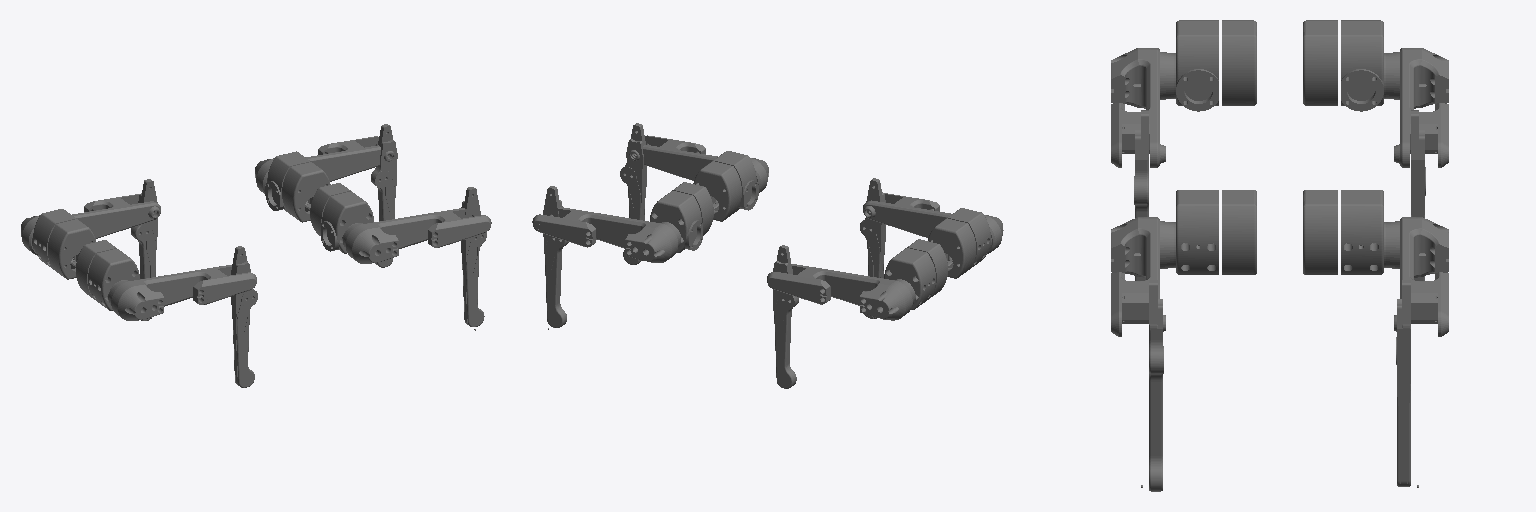
URDF robot description (4leg_robot):
<?xml version="1.0" ?>
<!-- =================================================================================== -->
<!-- |    This document was autogenerated by xacro from 4leg_robot.xacro               | -->
<!-- |    EDITING THIS FILE BY HAND IS NOT RECOMMENDED                                 | -->
<!-- =================================================================================== -->
<robot name="4leg_robot" xmlns:xacro="http://ros.org/wiki/xacro">
  <material name="gray">
    <color rgba="0.5 0.5 0.5 2.5"/>
  </material>
  <link name="base_link"/>
  <joint name="robot_base" type="fixed">
    <parent link="base_link"/>
    <child link="robot_body"/>
    <origin rpy="0.0 0.0 0.0" xyz="0.0 0.0 0.0101"/>
  </joint>
  <link name="robot_body">
    <visual>
      <geometry>
        <mesh filename="package://4leg_robot/stl/Servo_4leg_body.stl"/>
      </geometry>
      <material name="gray"/>
    </visual>
  </link>
  <joint name="right_leg_front_joint" type="continuous">
    <origin rpy="0 0 0" xyz="-0.141 -0.0572 0.0"/>
    <parent link="base_link"/>
    <child link="right_leg_front_servohead5"/>
    <axis xyz="1 0 0"/>
  </joint>
  <link name="right_leg_front_servohead5">
    <visual>
      <origin rpy="0 0 0" xyz="0 0 0"/>
      <geometry>
        <mesh filename="package://4leg_robot/stl/servohead_parts5.stl"/>
      </geometry>
      <material name="gray"/>
    </visual>
  </link>
  <joint name="right_leg_front_servohead_joint" type="fixed">
    <parent link="right_leg_front_servohead5"/>
    <child link="right_leg_front_servohead6"/>
    <origin xyz="0.0 0.015 0.0"/>
  </joint>
  <link name="right_leg_front_servohead6">
    <visual>
      <origin rpy="0 0 0" xyz="0 0 0"/>
      <geometry>
        <mesh filename="package://4leg_robot/stl/servohead_parts6.stl"/>
      </geometry>
      <material name="gray"/>
    </visual>
  </link>
  <joint name="right_leg_front_leg_joint1" type="continuous">
    <parent link="right_leg_front_servohead5"/>
    <child link="right_leg_front_leg1"/>
    <origin rpy="0.0 0.0 0.0" xyz="0.0 -0.016 0.0"/>
    <axis xyz="0 1 0"/>
  </joint>
  <link name="right_leg_front_leg1">
    <visual>
      <geometry>
        <mesh filename="package://4leg_robot/stl/leg_parts1.stl"/>
      </geometry>
      <material name="gray"/>
    </visual>
  </link>
  <joint name="right_leg_front_leg_joint2" type="continuous">
    <parent link="right_leg_front_leg1"/>
    <child link="right_leg_front_leg2"/>
    <origin rpy="0.0 1.57079632679 0.0" xyz="0.13 -0.019 0.0"/>
    <axis xyz="0 1 0"/>
  </joint>
  <link name="right_leg_front_leg2">
    <visual>
      <geometry>
        <mesh filename="package://4leg_robot/stl/leg_parts2.stl"/>
      </geometry>
      <material name="gray"/>
    </visual>
  </link>
  <joint name="right_leg_front_leg_position" type="fixed">
    <parent link="right_leg_front_leg2"/>
    <child link="right_leg_front_toe"/>
    <origin rpy="0.0 0.0 0.0" xyz="0.127 -0.005 0.0"/>
  </joint>
  <link name="right_leg_front_toe">
    <visual>
      <geometry>
        <sphere radius="0.001"/>
      </geometry>
      <material name="gray"/>
    </visual>
  </link>
  <joint name="left_leg_front_joint" type="continuous">
    <origin rpy="0 0 0" xyz="0.141 -0.0572 0.0"/>
    <parent link="base_link"/>
    <child link="left_leg_front_servohead7"/>
    <axis xyz="1 0 0"/>
  </joint>
  <link name="left_leg_front_servohead7">
    <visual>
      <origin rpy="0 0 0" xyz="0 0 0"/>
      <geometry>
        <mesh filename="package://4leg_robot/stl/servohead_parts7.stl"/>
      </geometry>
      <material name="gray"/>
    </visual>
  </link>
  <joint name="left_leg_front_servohead_joint" type="fixed">
    <parent link="left_leg_front_servohead7"/>
    <child link="left_leg_front_servohead6"/>
    <origin xyz="0.0 0.015 0.0"/>
  </joint>
  <link name="left_leg_front_servohead6">
    <visual>
      <origin rpy="0 0 0" xyz="0 0 0"/>
      <geometry>
        <mesh filename="package://4leg_robot/stl/servohead_parts6.stl"/>
      </geometry>
      <material name="gray"/>
    </visual>
  </link>
  <joint name="left_leg_front_leg_joint1" type="continuous">
    <parent link="left_leg_front_servohead7"/>
    <child link="left_leg_front_leg1"/>
    <origin rpy="0.0 0.0 0.0" xyz="0.0 -0.016 0.0"/>
    <axis xyz="0 1 0"/>
  </joint>
  <link name="left_leg_front_leg1">
    <visual>
      <geometry>
        <mesh filename="package://4leg_robot/stl/leg_parts1.stl"/>
      </geometry>
      <material name="gray"/>
    </visual>
  </link>
  <joint name="left_leg_front_leg_joint2" type="continuous">
    <parent link="left_leg_front_leg1"/>
    <child link="left_leg_front_leg2"/>
    <origin rpy="0.0 1.57079632679 0.0" xyz="0.13 -0.019 0.0"/>
    <axis xyz="0 1 0"/>
  </joint>
  <link name="left_leg_front_leg2">
    <visual>
      <geometry>
        <mesh filename="package://4leg_robot/stl/leg_parts3.stl"/>
      </geometry>
      <material name="gray"/>
    </visual>
  </link>
  <joint name="left_leg_front_leg_position" type="fixed">
    <parent link="left_leg_front_leg2"/>
    <child link="left_leg_front_toe"/>
    <origin rpy="0.0 0.0 0.0" xyz="0.127 -0.005 0.0"/>
  </joint>
  <link name="left_leg_front_toe">
    <visual>
      <geometry>
        <sphere radius="0.001"/>
      </geometry>
      <material name="gray"/>
    </visual>
  </link>
  <joint name="right_leg_back_joint" type="continuous">
    <origin rpy="0 0 -3.14159265359" xyz="-0.141 0.0572 0.0"/>
    <parent link="base_link"/>
    <child link="right_leg_back_servohead7"/>
    <axis xyz="1 0 0"/>
  </joint>
  <link name="right_leg_back_servohead7">
    <visual>
      <origin rpy="0 0 0" xyz="0 0 0"/>
      <geometry>
        <mesh filename="package://4leg_robot/stl/servohead_parts7.stl"/>
      </geometry>
      <material name="gray"/>
    </visual>
  </link>
  <joint name="right_leg_back_servohead_joint" type="fixed">
    <parent link="right_leg_back_servohead7"/>
    <child link="right_leg_back_servohead6"/>
    <origin xyz="0.0 0.015 0.0"/>
  </joint>
  <link name="right_leg_back_servohead6">
    <visual>
      <origin rpy="0 0 0" xyz="0 0 0"/>
      <geometry>
        <mesh filename="package://4leg_robot/stl/servohead_parts6.stl"/>
      </geometry>
      <material name="gray"/>
    </visual>
  </link>
  <joint name="right_leg_back_leg_joint1" type="continuous">
    <parent link="right_leg_back_servohead7"/>
    <child link="right_leg_back_leg1"/>
    <origin rpy="0.0 3.14159265359 0.0" xyz="0.0 -0.016 0.0"/>
    <axis xyz="0 1 0"/>
  </joint>
  <link name="right_leg_back_leg1">
    <visual>
      <geometry>
        <mesh filename="package://4leg_robot/stl/leg_parts1.stl"/>
      </geometry>
      <material name="gray"/>
    </visual>
  </link>
  <joint name="right_leg_back_leg_joint2" type="continuous">
    <parent link="right_leg_back_leg1"/>
    <child link="right_leg_back_leg2"/>
    <origin rpy="0.0 -1.57079632679 0.0" xyz="0.13 -0.019 0.0"/>
    <axis xyz="0 1 0"/>
  </joint>
  <link name="right_leg_back_leg2">
    <visual>
      <geometry>
        <mesh filename="package://4leg_robot/stl/leg_parts2.stl"/>
      </geometry>
      <material name="gray"/>
    </visual>
  </link>
  <joint name="right_leg_back_leg_position" type="fixed">
    <parent link="right_leg_back_leg2"/>
    <child link="right_leg_back_toe"/>
    <origin rpy="0.0 0.0 0.0" xyz="0.127 -0.005 0.0"/>
  </joint>
  <link name="right_leg_back_toe">
    <visual>
      <geometry>
        <sphere radius="0.001"/>
      </geometry>
      <material name="gray"/>
    </visual>
  </link>
  <joint name="left_leg_back_joint" type="continuous">
    <origin rpy="0 0 -3.14159265359" xyz="0.141 0.0572 0.0"/>
    <parent link="base_link"/>
    <child link="left_leg_back_servohead5"/>
    <axis xyz="1 0 0"/>
  </joint>
  <link name="left_leg_back_servohead5">
    <visual>
      <origin rpy="0 0 0" xyz="0 0 0"/>
      <geometry>
        <mesh filename="package://4leg_robot/stl/servohead_parts5.stl"/>
      </geometry>
      <material name="gray"/>
    </visual>
  </link>
  <joint name="left_leg_back_servohead_joint" type="fixed">
    <parent link="left_leg_back_servohead5"/>
    <child link="left_leg_back_servohead6"/>
    <origin xyz="0.0 0.015 0.0"/>
  </joint>
  <link name="left_leg_back_servohead6">
    <visual>
      <origin rpy="0 0 0" xyz="0 0 0"/>
      <geometry>
        <mesh filename="package://4leg_robot/stl/servohead_parts6.stl"/>
      </geometry>
      <material name="gray"/>
    </visual>
  </link>
  <joint name="left_leg_back_leg_joint1" type="continuous">
    <parent link="left_leg_back_servohead5"/>
    <child link="left_leg_back_leg1"/>
    <origin rpy="0.0 3.14159265359 0.0" xyz="0.0 -0.016 0.0"/>
    <axis xyz="0 1 0"/>
  </joint>
  <link name="left_leg_back_leg1">
    <visual>
      <geometry>
        <mesh filename="package://4leg_robot/stl/leg_parts1.stl"/>
      </geometry>
      <material name="gray"/>
    </visual>
  </link>
  <joint name="left_leg_back_leg_joint2" type="continuous">
    <parent link="left_leg_back_leg1"/>
    <child link="left_leg_back_leg2"/>
    <origin rpy="0.0 -1.57079632679 0.0" xyz="0.13 -0.019 0.0"/>
    <axis xyz="0 1 0"/>
  </joint>
  <link name="left_leg_back_leg2">
    <visual>
      <geometry>
        <mesh filename="package://4leg_robot/stl/leg_parts3.stl"/>
      </geometry>
      <material name="gray"/>
    </visual>
  </link>
  <joint name="left_leg_back_leg_position" type="fixed">
    <parent link="left_leg_back_leg2"/>
    <child link="left_leg_back_toe"/>
    <origin rpy="0.0 0.0 0.0" xyz="0.127 -0.005 0.0"/>
  </joint>
  <link name="left_leg_back_toe">
    <visual>
      <geometry>
        <sphere radius="0.001"/>
      </geometry>
      <material name="gray"/>
    </visual>
  </link>
</robot>

--- Facts derived from the render (not from the file) ---
Views: 3 orthographic renders of the robot side by side, from view 1: azimuth 30°, elevation 25°; view 2: azimuth 150°, elevation 25°; view 3: azimuth 270°, elevation 25°.
Model 4leg_robot with 22 links and 21 joints (12 continuous, 9 fixed), rooted at base_link, posed all joints at 0.
Visible links, largest first — view 1: left_leg_front_leg1, right_leg_front_leg1, right_leg_back_leg1, left_leg_back_leg1, right_leg_front_leg2, left_leg_front_leg2, left_leg_front_servohead7, right_leg_front_servohead5, left_leg_back_servohead6, right_leg_back_servohead6, left_leg_back_leg2, right_leg_back_leg2 (+4 smaller); view 2: right_leg_back_leg1, left_leg_back_leg1, right_leg_front_leg1, left_leg_front_leg1, right_leg_back_leg2, left_leg_back_servohead5, left_leg_back_leg2, right_leg_back_servohead7, left_leg_front_servohead6, right_leg_front_servohead6, left_leg_front_leg2, right_leg_front_leg2 (+4 smaller); view 3: right_leg_front_leg1, right_leg_back_leg1, left_leg_front_leg1, left_leg_back_leg1, right_leg_front_servohead5, right_leg_back_servohead7, left_leg_front_servohead7, left_leg_back_servohead5, right_leg_front_servohead6, right_leg_back_servohead6, left_leg_front_servohead6, left_leg_back_servohead6 (+4 smaller).
Boxes of the visible links, x1=… form: left_leg_front_leg1: x1=343, y1=208, x2=491, y2=263; right_leg_front_leg1: x1=108, y1=265, x2=256, y2=320; right_leg_back_leg1: x1=21, y1=194, x2=160, y2=254; left_leg_back_leg1: x1=255, y1=136, x2=394, y2=193; right_leg_front_leg2: x1=231, y1=246, x2=257, y2=387; left_leg_front_leg2: x1=461, y1=187, x2=486, y2=326; left_leg_front_servohead7: x1=321, y1=191, x2=373, y2=253; right_leg_front_servohead5: x1=88, y1=249, x2=139, y2=310; left_leg_back_servohead6: x1=282, y1=162, x2=330, y2=222; right_leg_back_servohead6: x1=48, y1=219, x2=95, y2=279; left_leg_back_leg2: x1=371, y1=124, x2=397, y2=267; right_leg_back_leg2: x1=131, y1=179, x2=157, y2=320; right_leg_back_leg1: x1=767, y1=264, x2=915, y2=320; left_leg_back_leg1: x1=532, y1=207, x2=680, y2=262; right_leg_front_leg1: x1=863, y1=193, x2=1003, y2=253; left_leg_front_leg1: x1=629, y1=135, x2=768, y2=192; right_leg_back_leg2: x1=773, y1=245, x2=798, y2=388; left_leg_back_servohead5: x1=650, y1=191, x2=702, y2=252; left_leg_back_leg2: x1=543, y1=186, x2=568, y2=327; right_leg_back_servohead7: x1=883, y1=248, x2=935, y2=309; left_leg_front_servohead6: x1=693, y1=161, x2=741, y2=221; right_leg_front_servohead6: x1=928, y1=218, x2=975, y2=278; left_leg_front_leg2: x1=620, y1=123, x2=646, y2=264; right_leg_front_leg2: x1=860, y1=178, x2=885, y2=318; right_leg_front_leg1: x1=1111, y1=48, x2=1175, y2=167; right_leg_back_leg1: x1=1384, y1=48, x2=1448, y2=167; left_leg_front_leg1: x1=1111, y1=217, x2=1175, y2=336; left_leg_back_leg1: x1=1384, y1=217, x2=1448, y2=336; right_leg_front_servohead5: x1=1176, y1=20, x2=1218, y2=111; right_leg_back_servohead7: x1=1341, y1=20, x2=1383, y2=111; left_leg_front_servohead7: x1=1176, y1=190, x2=1218, y2=274; left_leg_back_servohead5: x1=1341, y1=190, x2=1383, y2=274; right_leg_front_servohead6: x1=1222, y1=20, x2=1256, y2=105; right_leg_back_servohead6: x1=1303, y1=20, x2=1337, y2=105; left_leg_front_servohead6: x1=1222, y1=190, x2=1256, y2=274; left_leg_back_servohead6: x1=1303, y1=190, x2=1337, y2=274.
Bounding box of the posed robot: 0.4525 × 0.2384 × 0.1655 m (x, y, z).
16 mesh visuals loaded from 7 distinct referenced files (6 binary STL); not drawn: 1 (reference not matched to a file when rendering).